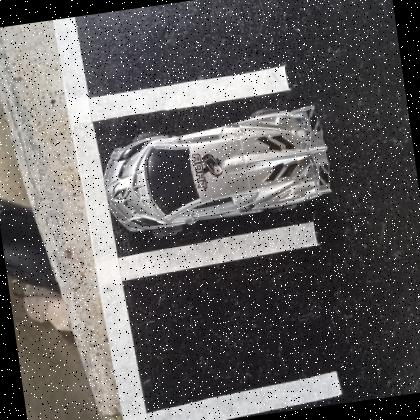Car: (103, 103, 331, 231)
